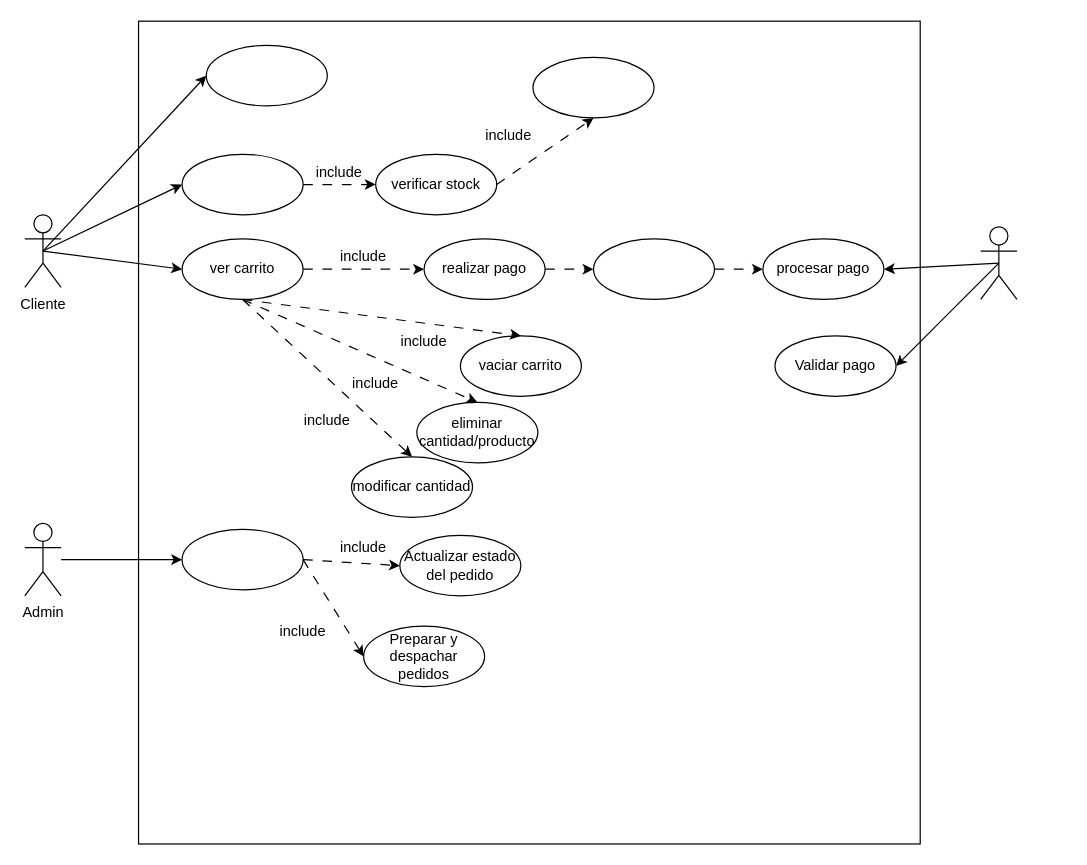
This 1087x865 diagram has some shape labels left out. Here are the shapes that lost their labels. From the top down, the box of each, then its label:
(205, 44, 327, 106): registro/inicio sesion
(532, 56, 654, 118): agregar al carrito
(181, 153, 303, 215): ver/buscar productos
(592, 238, 715, 299): ingresar datos de envio
(979, 226, 1017, 299): Entidades Bnacarias
(181, 528, 303, 590): gestionar pedidos
